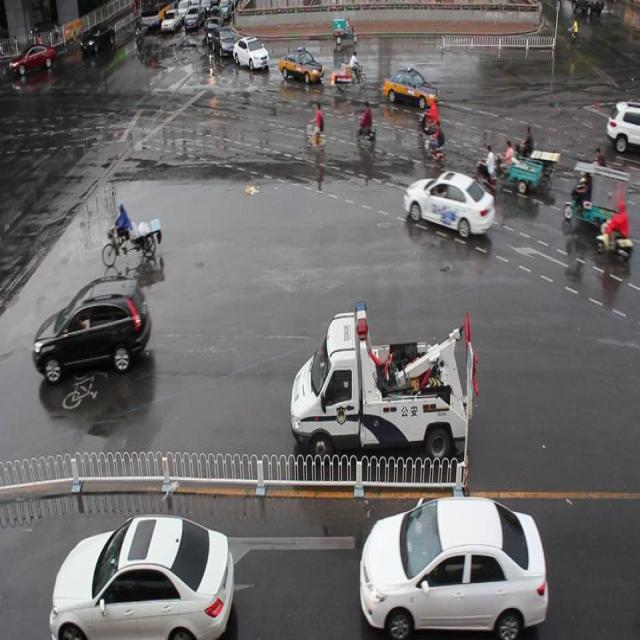bus: (290, 297, 478, 464)
car: (358, 494, 546, 640), (50, 508, 235, 640), (34, 274, 152, 384), (403, 166, 494, 242), (382, 62, 439, 112), (604, 93, 640, 156), (278, 42, 323, 86), (233, 33, 269, 72), (210, 25, 237, 60)
